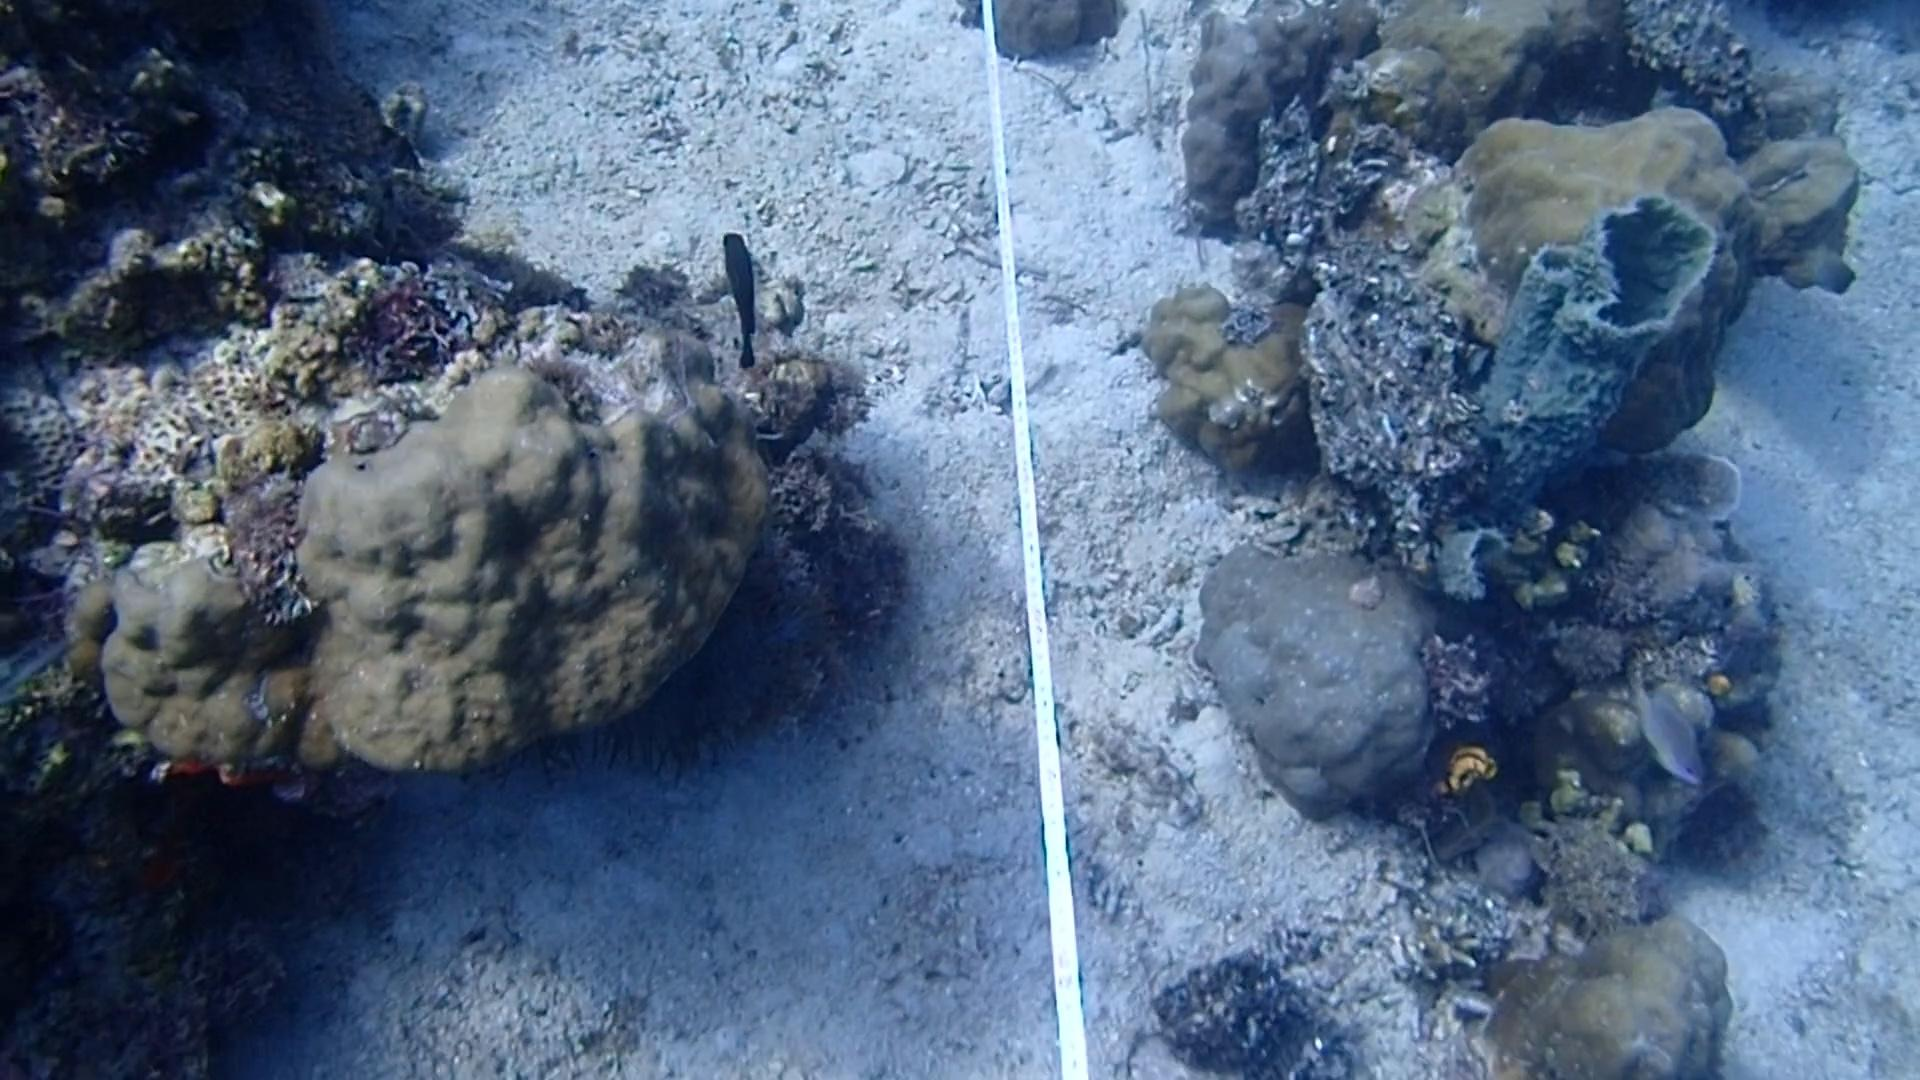Blue Nose Fish: (1623, 680, 1714, 799)
Dark Fish: (702, 228, 771, 369)
